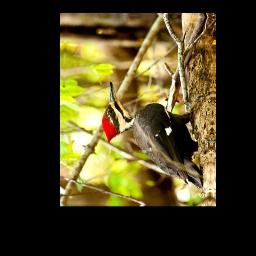Woodpecker: (101, 79, 207, 188)
